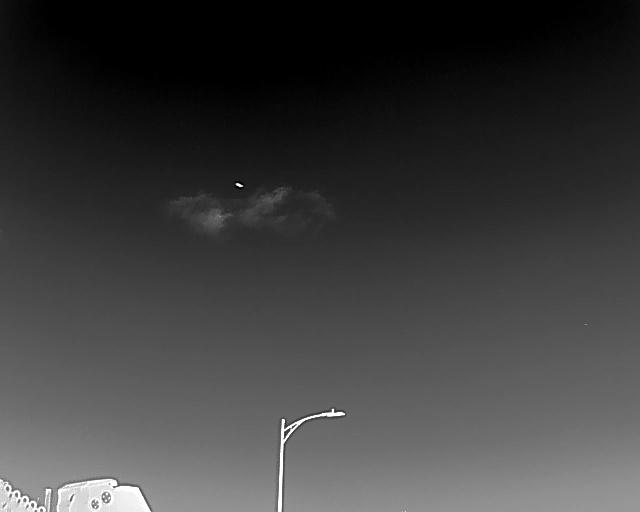fpv-drone: (234, 181, 244, 188)
